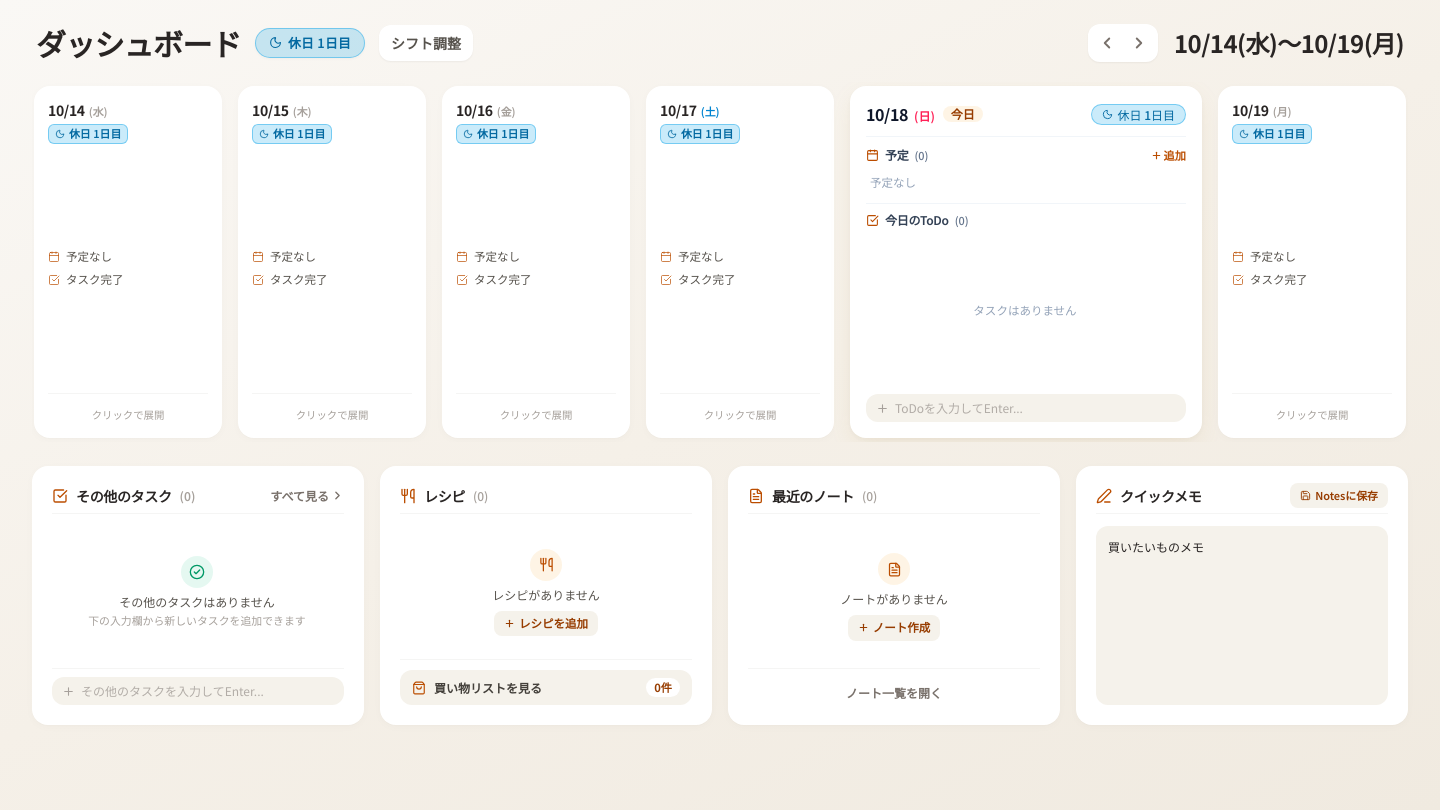
Test: Dashboard コンポーネント › シフト調整ボタンクリックでカレンダー統合シフト変更モーダルが開くこと
This screenshot has width=1440, height=810.
What coordinates should you click on to do the following:
click the button "シフト調整"
I would click on:
 (426, 43)
Its box is 379,25 -> 473,61.
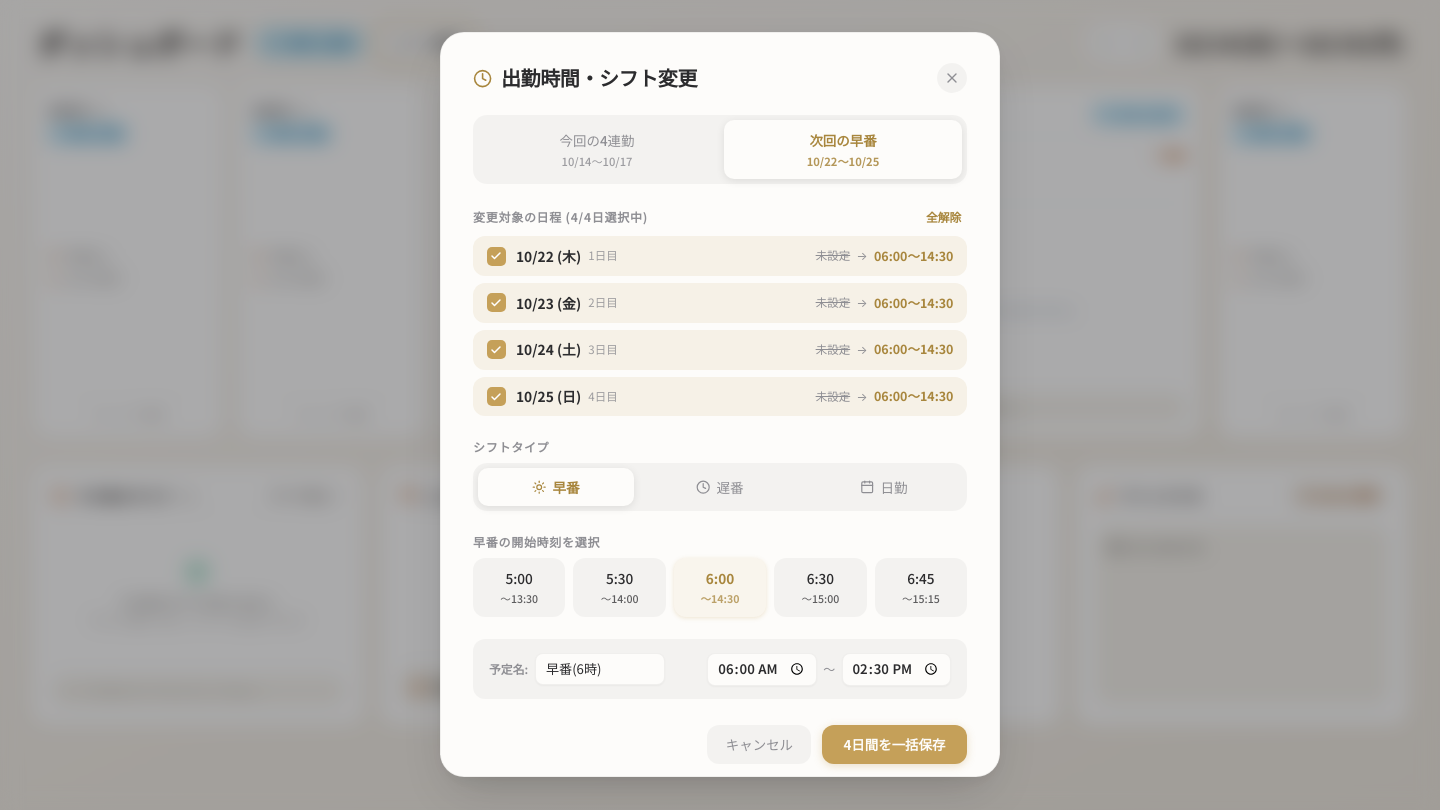
expect the element with test id "shift-edit-modal" is shown: met, box 440,32 -> 1000,778
expect the heading "出勤時間・シフト変更" is shown: met, box 501,64 -> 697,94
expect the text "今回の4連勤" is shown: met, box 560,130 -> 634,150
